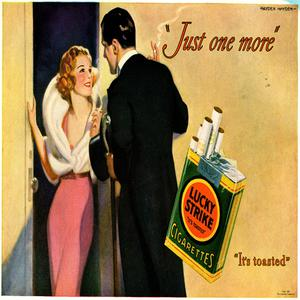cigarette: (151, 37, 163, 56)
